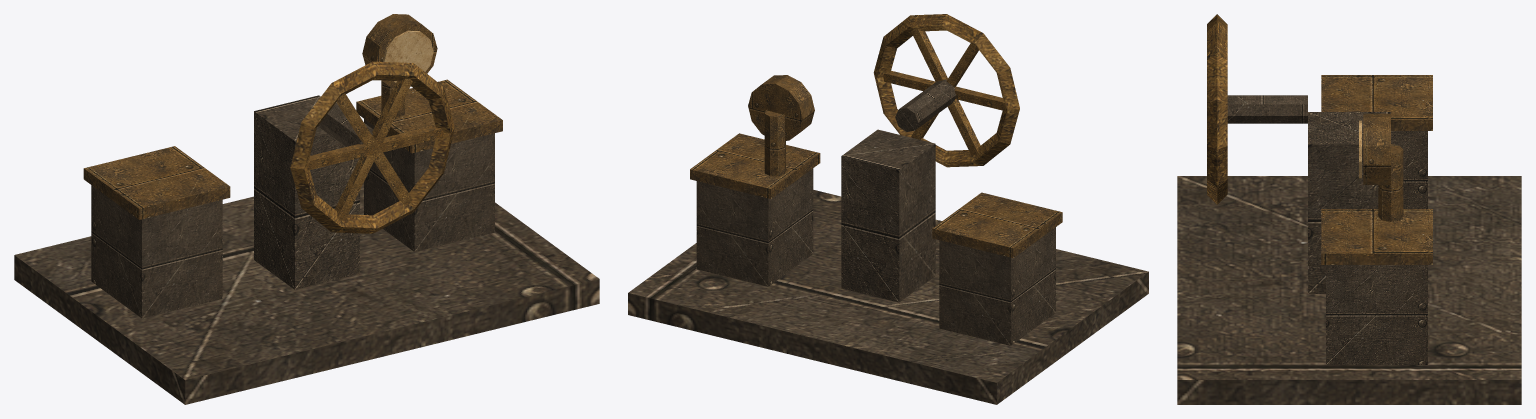
Rendered from center-vein-bridge-school.glb.
3 views of the same model, side by side, from view 1: azimuth 30°, elevation 25°; view 2: azimuth 150°, elevation 25°; view 3: azimuth 270°, elevation 25° (orthographic). The views are drawn at different scales.
Visible parts, largest first — view 1: center-vein-bridge-school; view 2: center-vein-bridge-school; view 3: center-vein-bridge-school.
Boxes of the visible parts, box(x1,y1,x2,y2) form: center-vein-bridge-school: box(14, 14, 599, 404); center-vein-bridge-school: box(628, 14, 1148, 404); center-vein-bridge-school: box(1177, 14, 1521, 404).
Bounding box in the file's own units: 3.5 × 2.24 × 2.5.
Materials: 1 (1 with a texture image).
